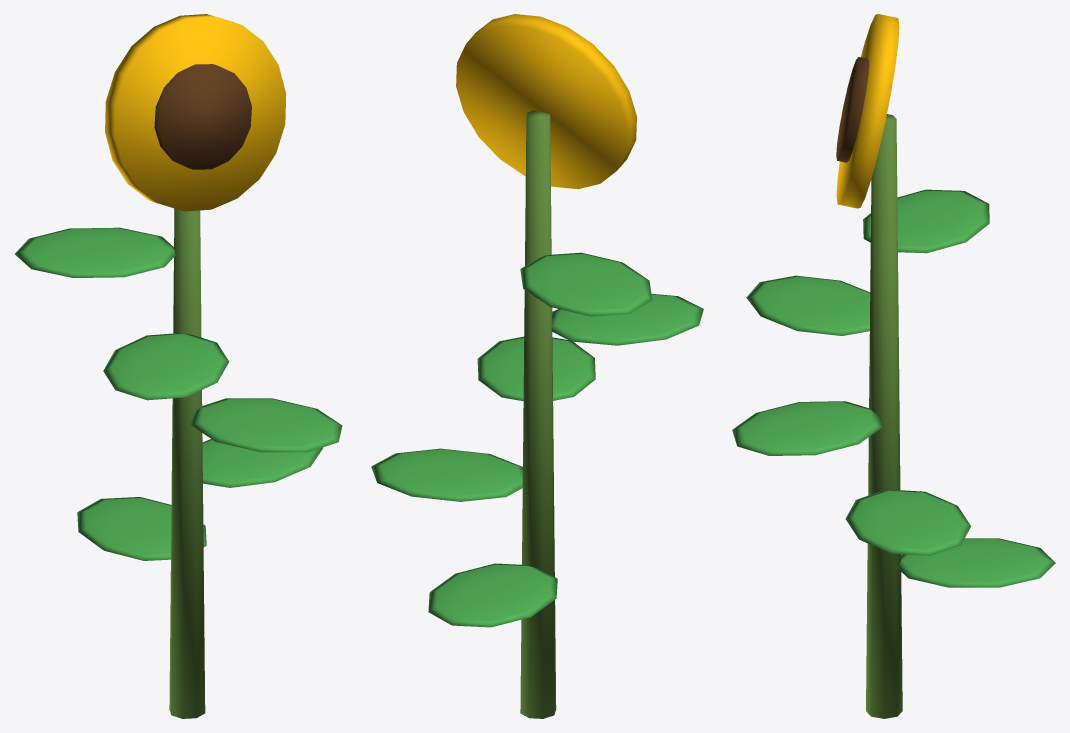
The picture shows the model from 3 angles, left to right: view 1: azimuth 30°, elevation 25°; view 2: azimuth 150°, elevation 25°; view 3: azimuth 270°, elevation 25°; orthographic projection.
Visible parts, largest first — view 1: Fruit.002, Leaf.002, Stem.002; view 2: Leaf.002, Fruit.002, Stem.002; view 3: Leaf.002, Stem.002, Fruit.002.
Part boxes in pixels (x1,y1,x2,y2): Fruit.002: [105, 14, 286, 211]; Leaf.002: [15, 227, 342, 560]; Stem.002: [169, 208, 205, 718]; Leaf.002: [371, 252, 703, 627]; Fruit.002: [456, 14, 636, 189]; Stem.002: [520, 110, 556, 718]; Leaf.002: [732, 189, 1055, 587]; Stem.002: [866, 114, 902, 718]; Fruit.002: [836, 14, 899, 208].
Size of the model in its own units: 0.7833 by 1.86 by 0.7926.
